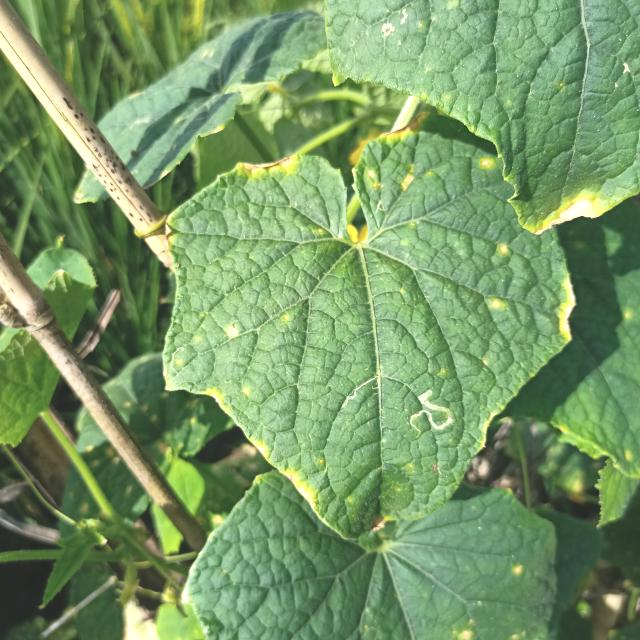disease_cucumber: (364, 127, 421, 199), (204, 380, 256, 410), (224, 322, 240, 339), (488, 296, 501, 312), (497, 243, 509, 257)
